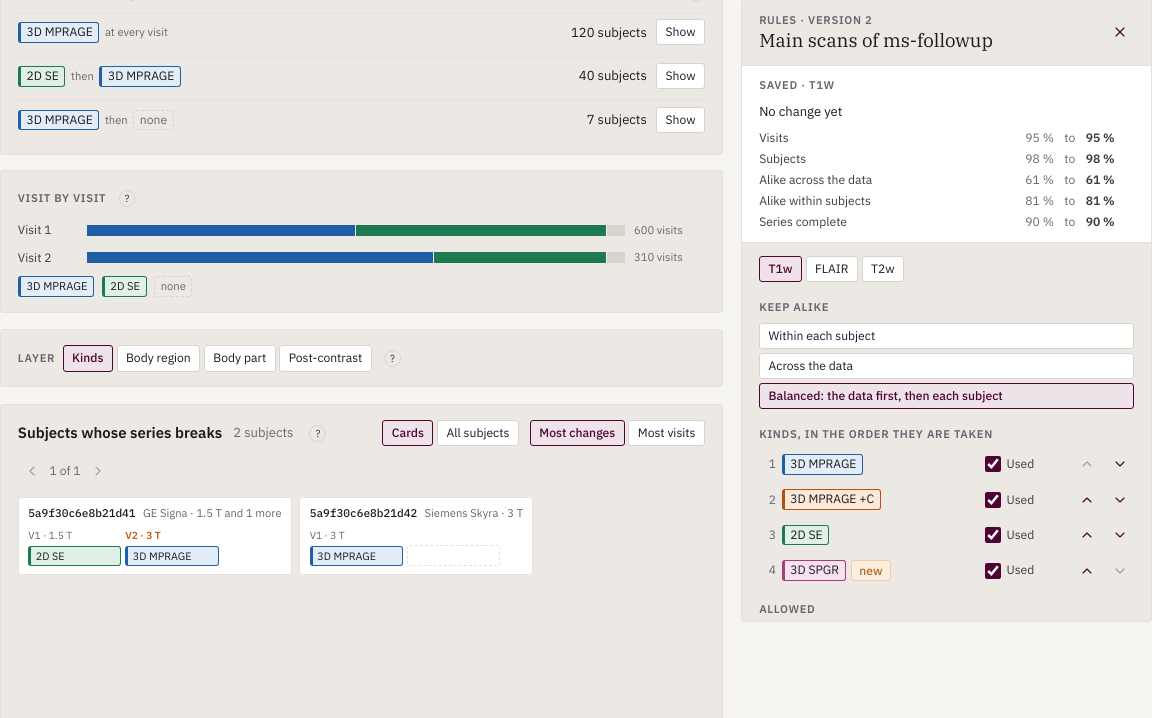
Test case: Main scans' layers › draws each value over the visits as the kinds are drawn: a framed tag in its colour, faint those that hold it, solid those that take it
This screenshot has width=1152, height=718.
(page scrolled)
Click the button "Body region" at (158, 358), box [117,345,200,372]
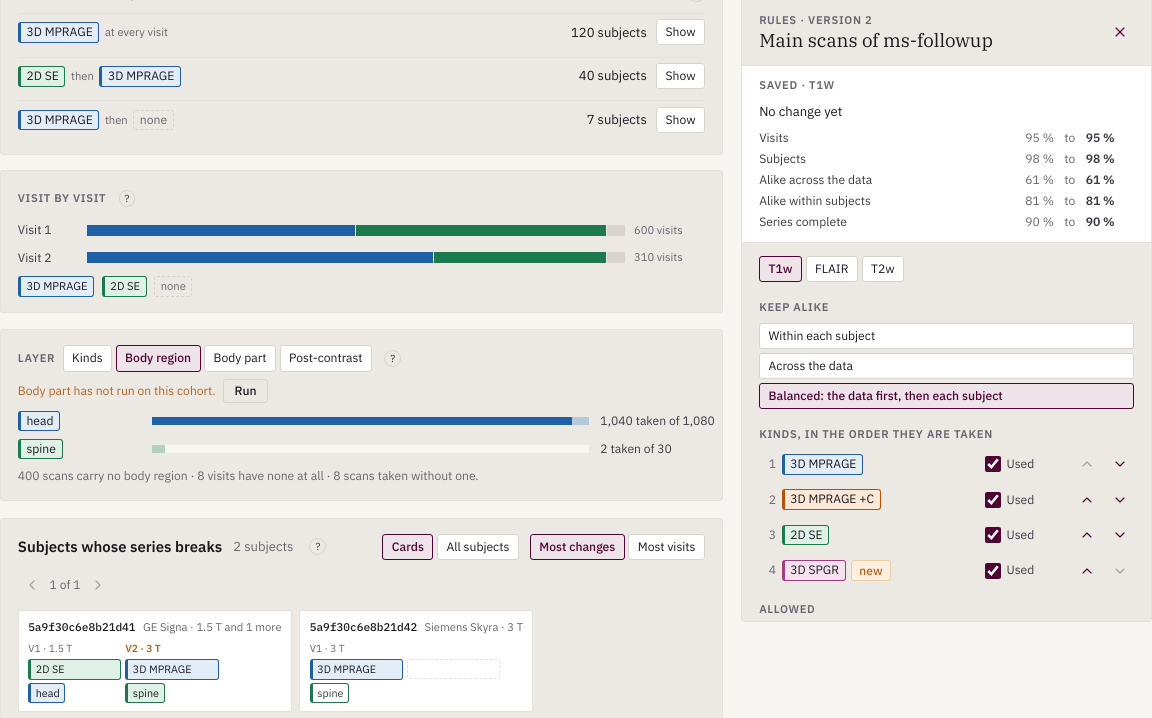
Expected: the element with class "ms-layer" shows "400 scans carry no body region · 8 visits have none at all · 8 scans taken without one.", [18,468,479,483]
